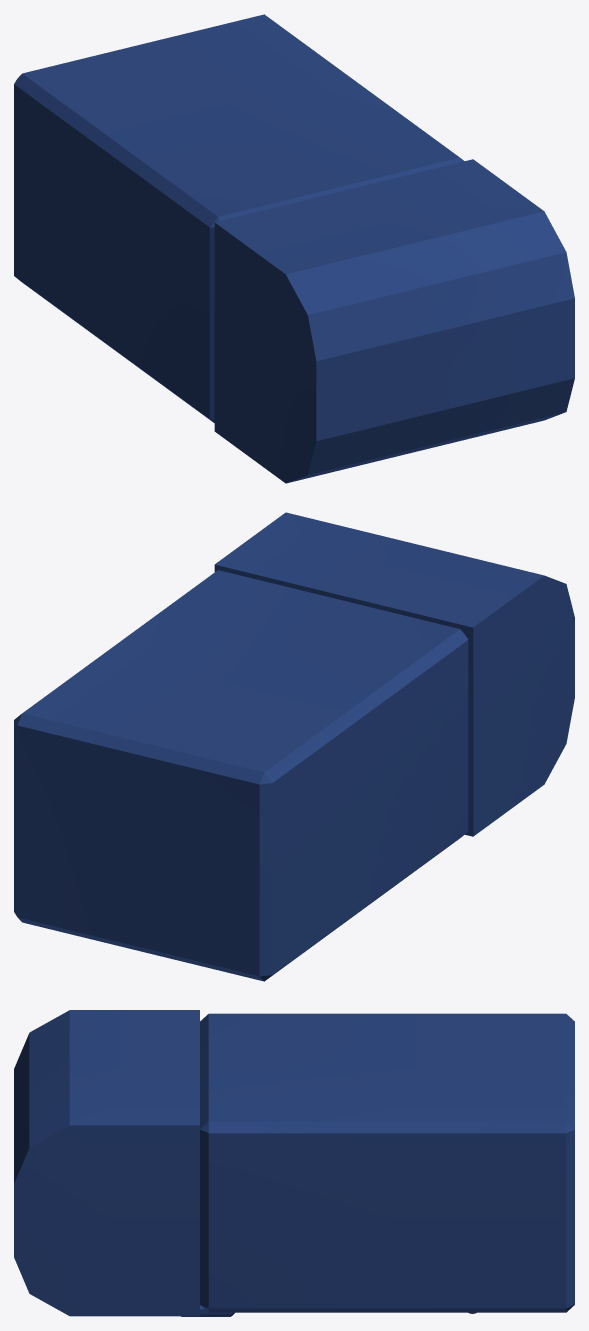
The model's file is pz_mailbox_public.obj.
The picture shows the model from 3 angles, top to bottom: view 1: azimuth 30°, elevation 25°; view 2: azimuth 150°, elevation 25°; view 3: azimuth 270°, elevation 25°; orthographic projection. The views are drawn at different scales.
Visible parts, largest first — view 1: pz_mailbox_public_|_true_rounded_public_mailbox_roof, pz_mailbox_public_|_public_box_lower_body; view 2: pz_mailbox_public_|_public_box_lower_body, pz_mailbox_public_|_true_rounded_public_mailbox_roof; view 3: pz_mailbox_public_|_public_box_lower_body, pz_mailbox_public_|_true_rounded_public_mailbox_roof.
Part boxes in pixels (<box>): pz_mailbox_public_|_true_rounded_public_mailbox_roof: <box>214,159,574,483</box>; pz_mailbox_public_|_public_box_lower_body: <box>14,14,464,422</box>; pz_mailbox_public_|_public_box_lower_body: <box>14,570,468,981</box>; pz_mailbox_public_|_true_rounded_public_mailbox_roof: <box>214,512,574,836</box>; pz_mailbox_public_|_public_box_lower_body: <box>200,1013,574,1312</box>; pz_mailbox_public_|_true_rounded_public_mailbox_roof: <box>14,1010,199,1316</box>.
Size of the model in its own units: 0.44 by 0.374 by 0.905.
Materials: 3 (3 with a texture image).
